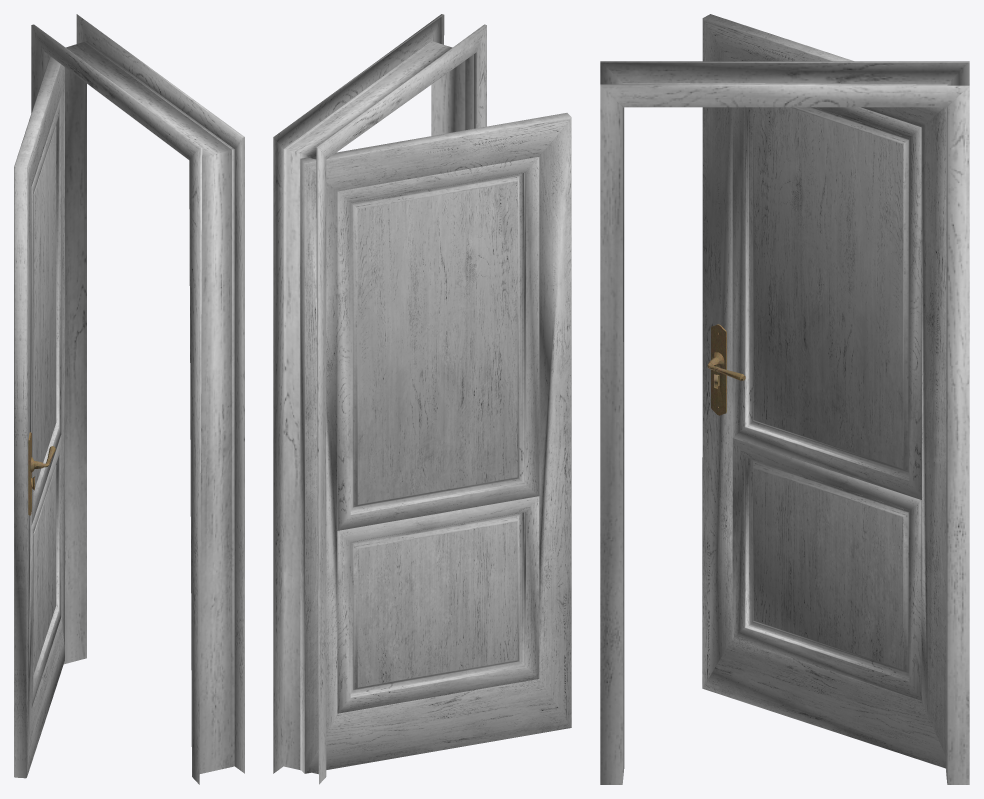
The model's file is xizhentsan_DOOR.fbx.
3 views of the same model, side by side, from view 1: azimuth 30°, elevation 25°; view 2: azimuth 150°, elevation 25°; view 3: azimuth 270°, elevation 25° (orthographic). The views are drawn at different scales.
Parts seen in each view (by area): view 1: DOOR; view 2: DOOR; view 3: DOOR.
Part boxes in pixels (bbox=[...]): DOOR: bbox=[14, 14, 244, 784]; DOOR: bbox=[273, 14, 571, 784]; DOOR: bbox=[600, 14, 969, 784].
Bounding box in the file's own units: 65.31 × 220 × 105.
1 material, 1 textured.
